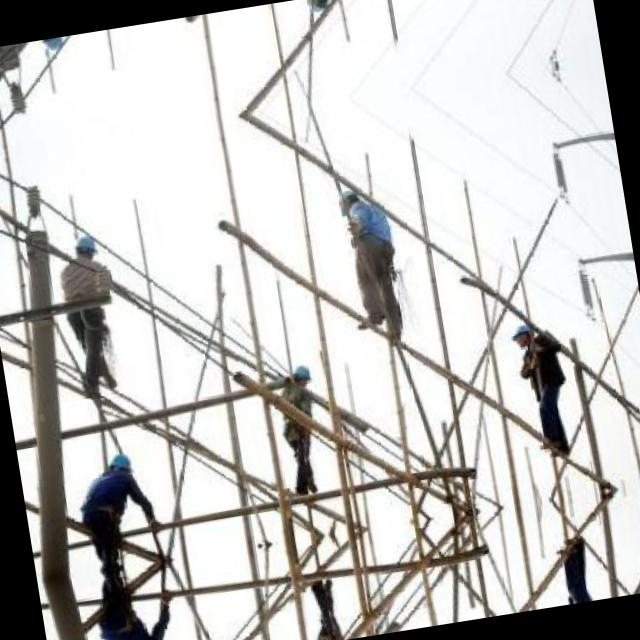helmet: (70, 230, 102, 264), (104, 449, 136, 479), (290, 358, 316, 394), (334, 186, 365, 216), (508, 319, 536, 350), (39, 36, 70, 55), (303, 0, 334, 13)
